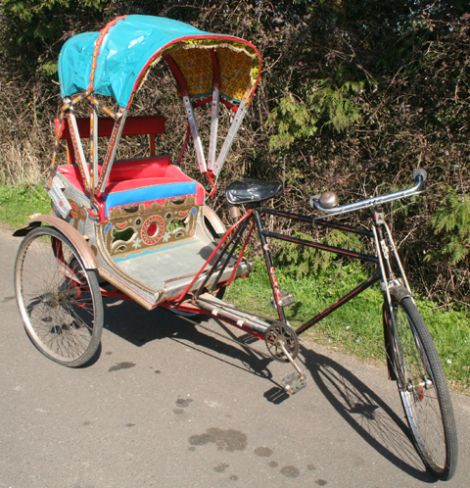handle bar: (306, 163, 435, 235)
seat: (220, 173, 298, 214)
wheel: (376, 279, 469, 488), (11, 225, 112, 384), (146, 209, 236, 325)
